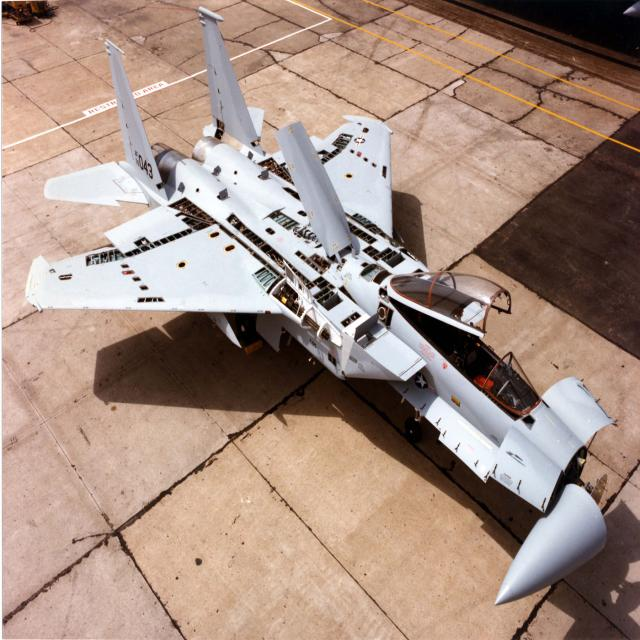MIL_Plane: (26, 6, 618, 606)
